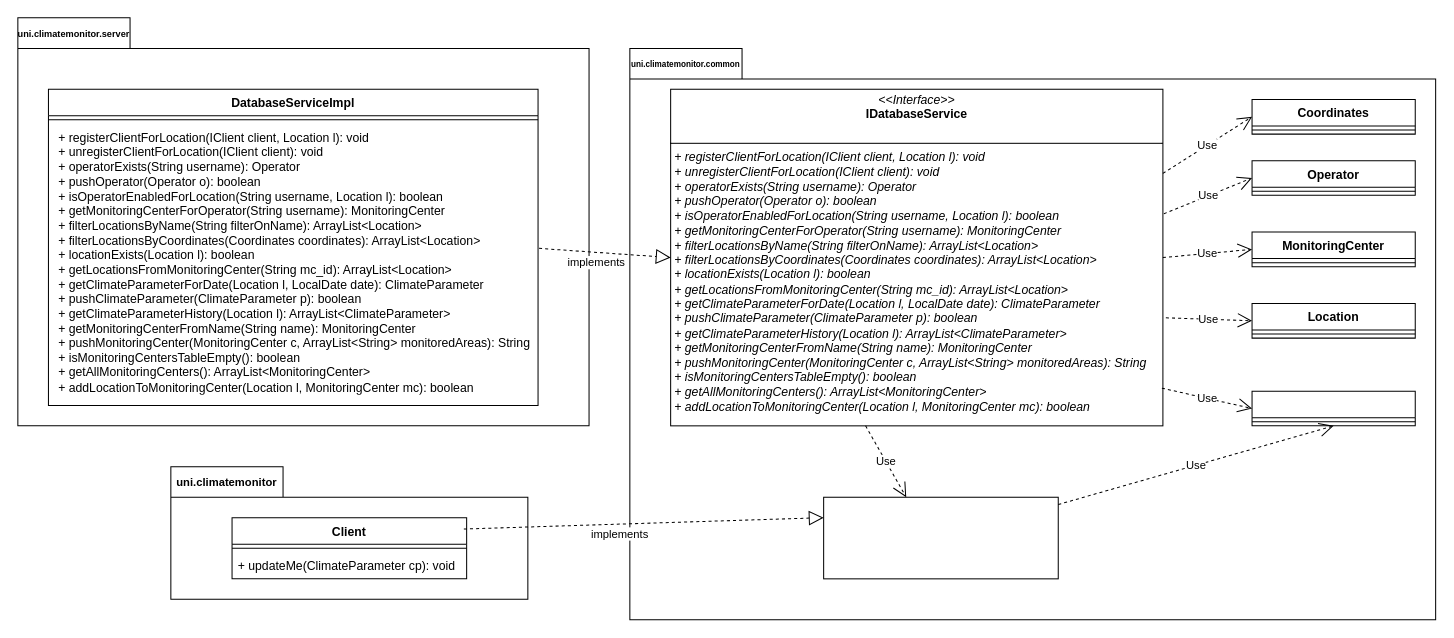
Some shapes in this 1454 by 638 pixel diagram are drawn without their labels. Here are the shapes that lost their labels. From the top down, the centre of each, then its label:
At (x=1333, y=408): "ClimateParameter".
At (x=940, y=537): "<<Interface>> IClient + updateMe(ClimateParameter cp): void".
